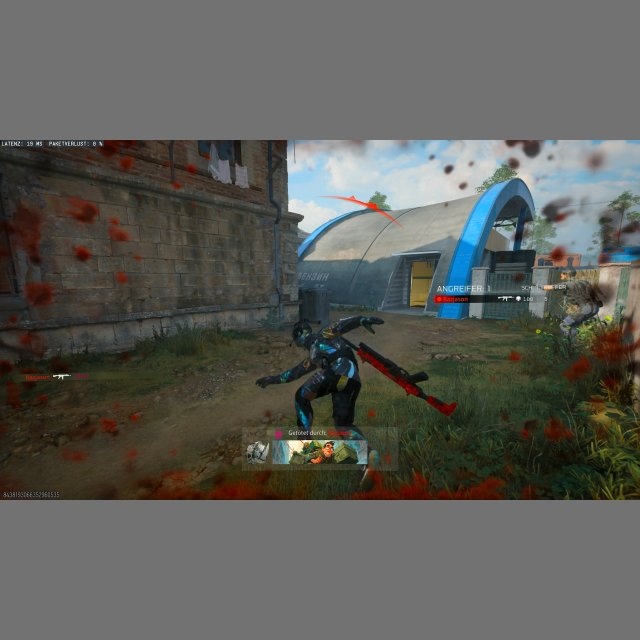head: (291, 318, 314, 349)
player: (255, 322, 379, 458), (560, 273, 604, 342)
